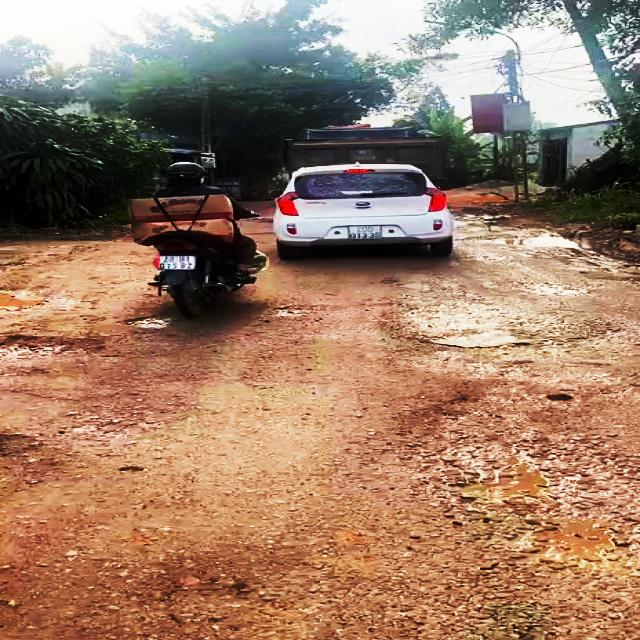pothole: (416, 402, 640, 582), (0, 398, 186, 492), (389, 304, 632, 348), (0, 332, 114, 358), (0, 285, 61, 313), (266, 304, 326, 319), (126, 316, 175, 328)
